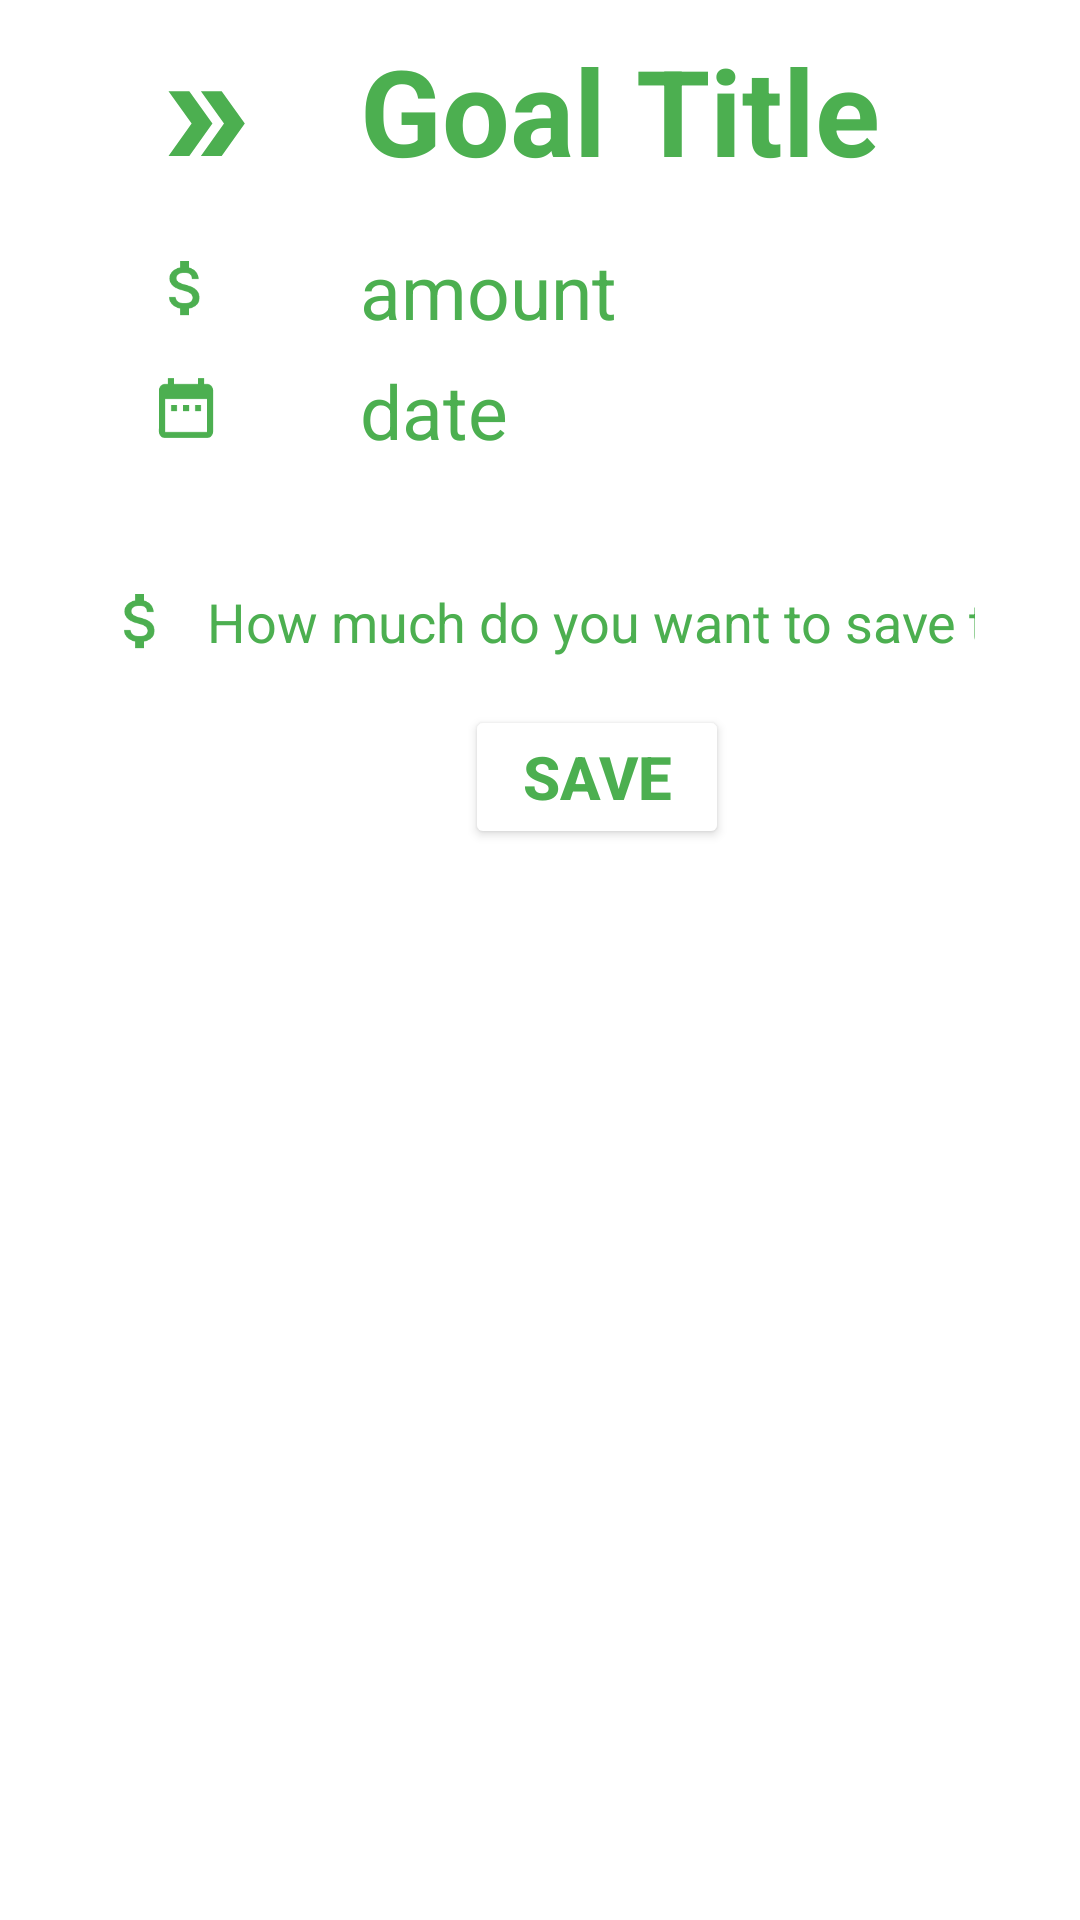

Named icons in this screenshot (1080 × 1920) and their bounding boxes, (x1, y1, x2, y2):
arrow: (168, 91, 245, 156)
money: (169, 261, 200, 316)
